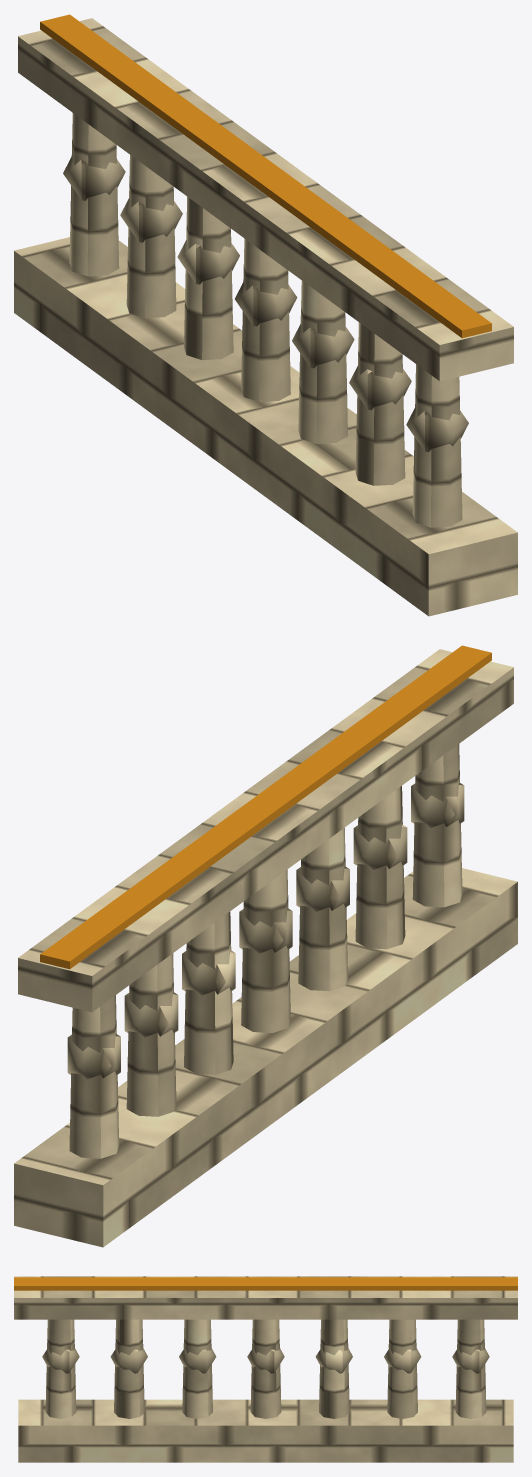
The model's file is balustrade_span_sky.glb.
The picture shows the model from 3 angles, top to bottom: view 1: azimuth 30°, elevation 25°; view 2: azimuth 150°, elevation 25°; view 3: azimuth 270°, elevation 25°; orthographic projection. The views are drawn at different scales.
Visible parts, largest first — view 1: balustrade_span_sky; view 2: balustrade_span_sky; view 3: balustrade_span_sky.
Boxes of the visible parts, x1,y1,x2,y2 form: balustrade_span_sky: [14, 14, 517, 616]; balustrade_span_sky: [14, 645, 517, 1247]; balustrade_span_sky: [14, 1276, 517, 1462].
Size of the model in its own units: 0.36 by 1.09 by 2.95.
Materials: 2 (1 with a texture image).
